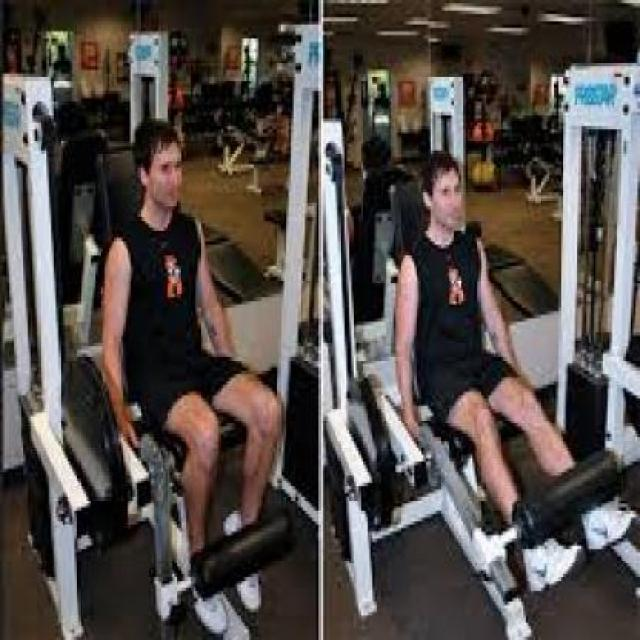leg extension: (318, 31, 640, 640), (0, 64, 304, 640)
